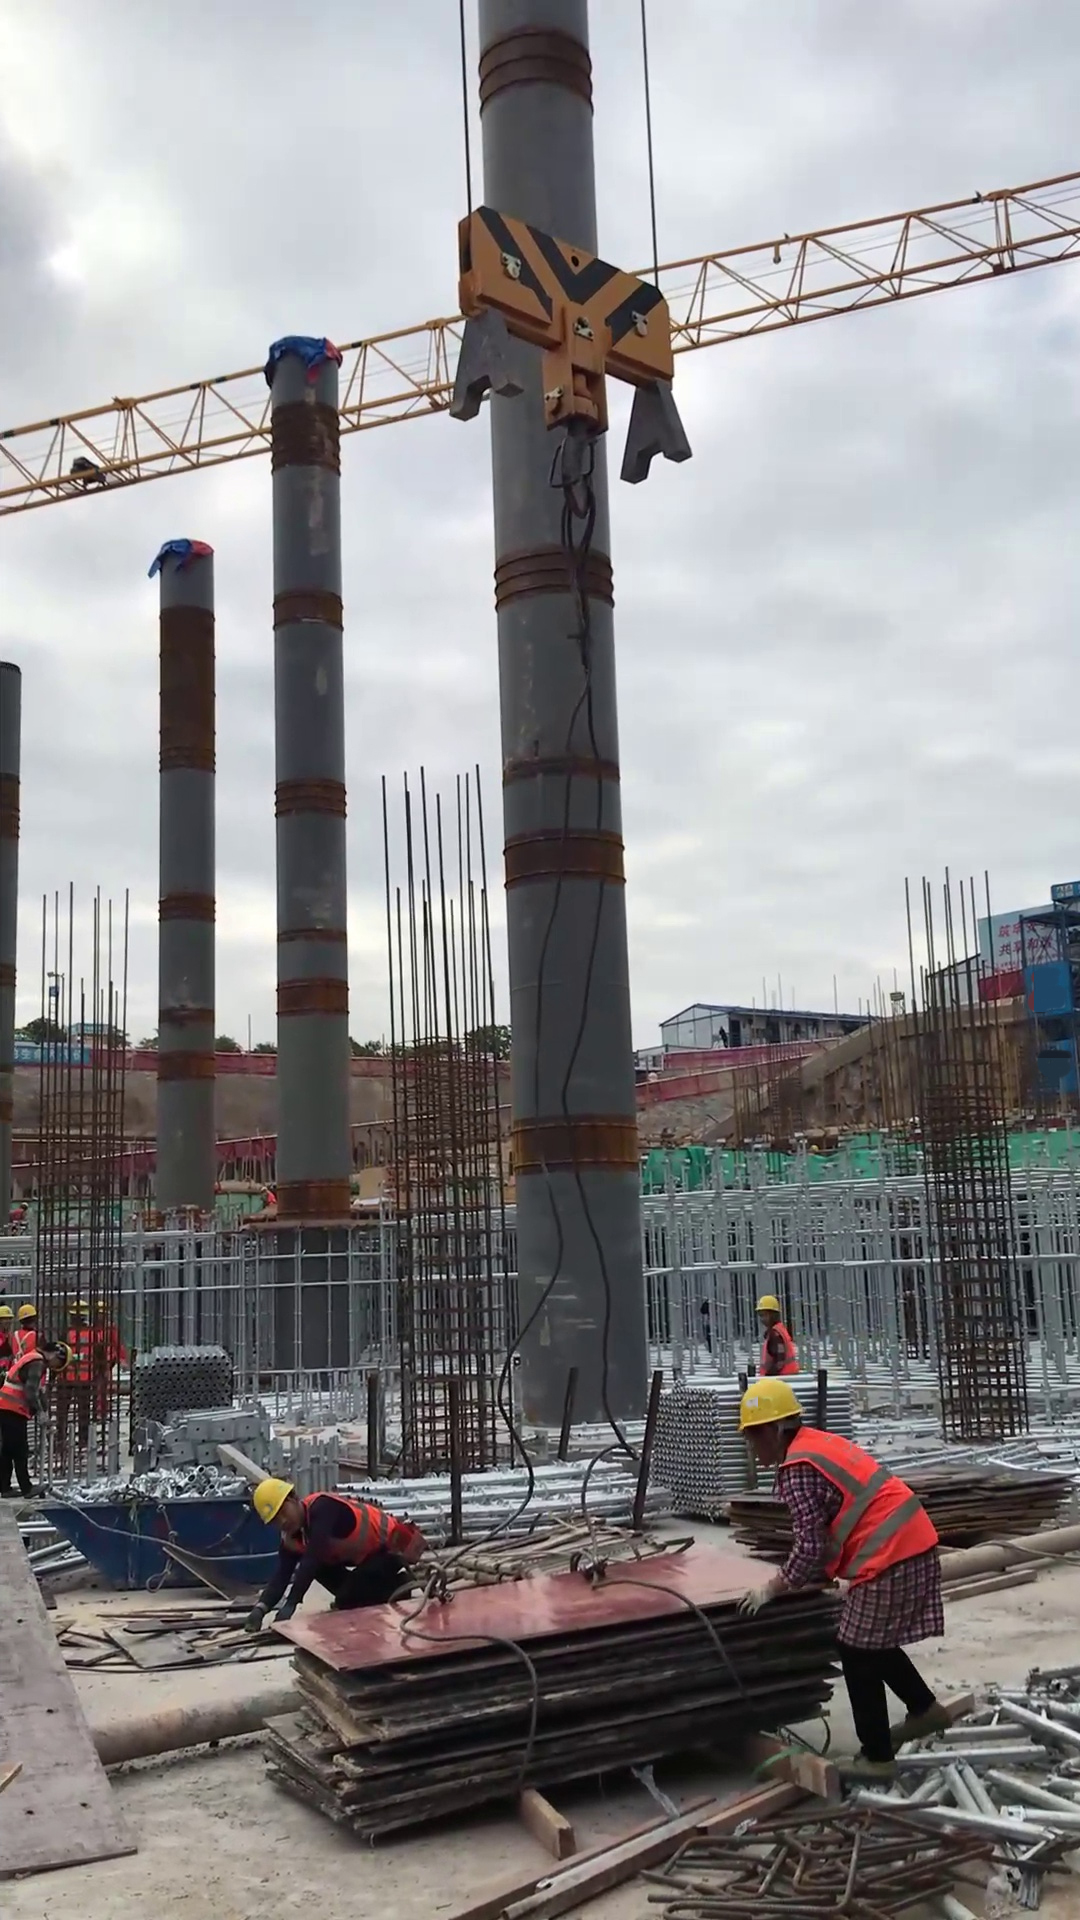board: (247, 1529, 854, 1853), (885, 1439, 1068, 1565)
helmet: (735, 1375, 808, 1441), (251, 1475, 296, 1529), (752, 1290, 784, 1322), (54, 1339, 73, 1374), (15, 1304, 39, 1324), (1, 1303, 15, 1321)
hook: (442, 194, 704, 529)
hopper: (37, 1475, 261, 1601)
person: (720, 1375, 956, 1799), (239, 1472, 435, 1636), (1, 1339, 82, 1504), (746, 1290, 808, 1383), (8, 1303, 44, 1371), (1, 1298, 19, 1386)
scaffold: (630, 1363, 758, 1519), (125, 1336, 243, 1436)
vest: (778, 1426, 942, 1593), (278, 1489, 432, 1573), (1, 1350, 53, 1424), (761, 1323, 803, 1377), (12, 1328, 41, 1363)
